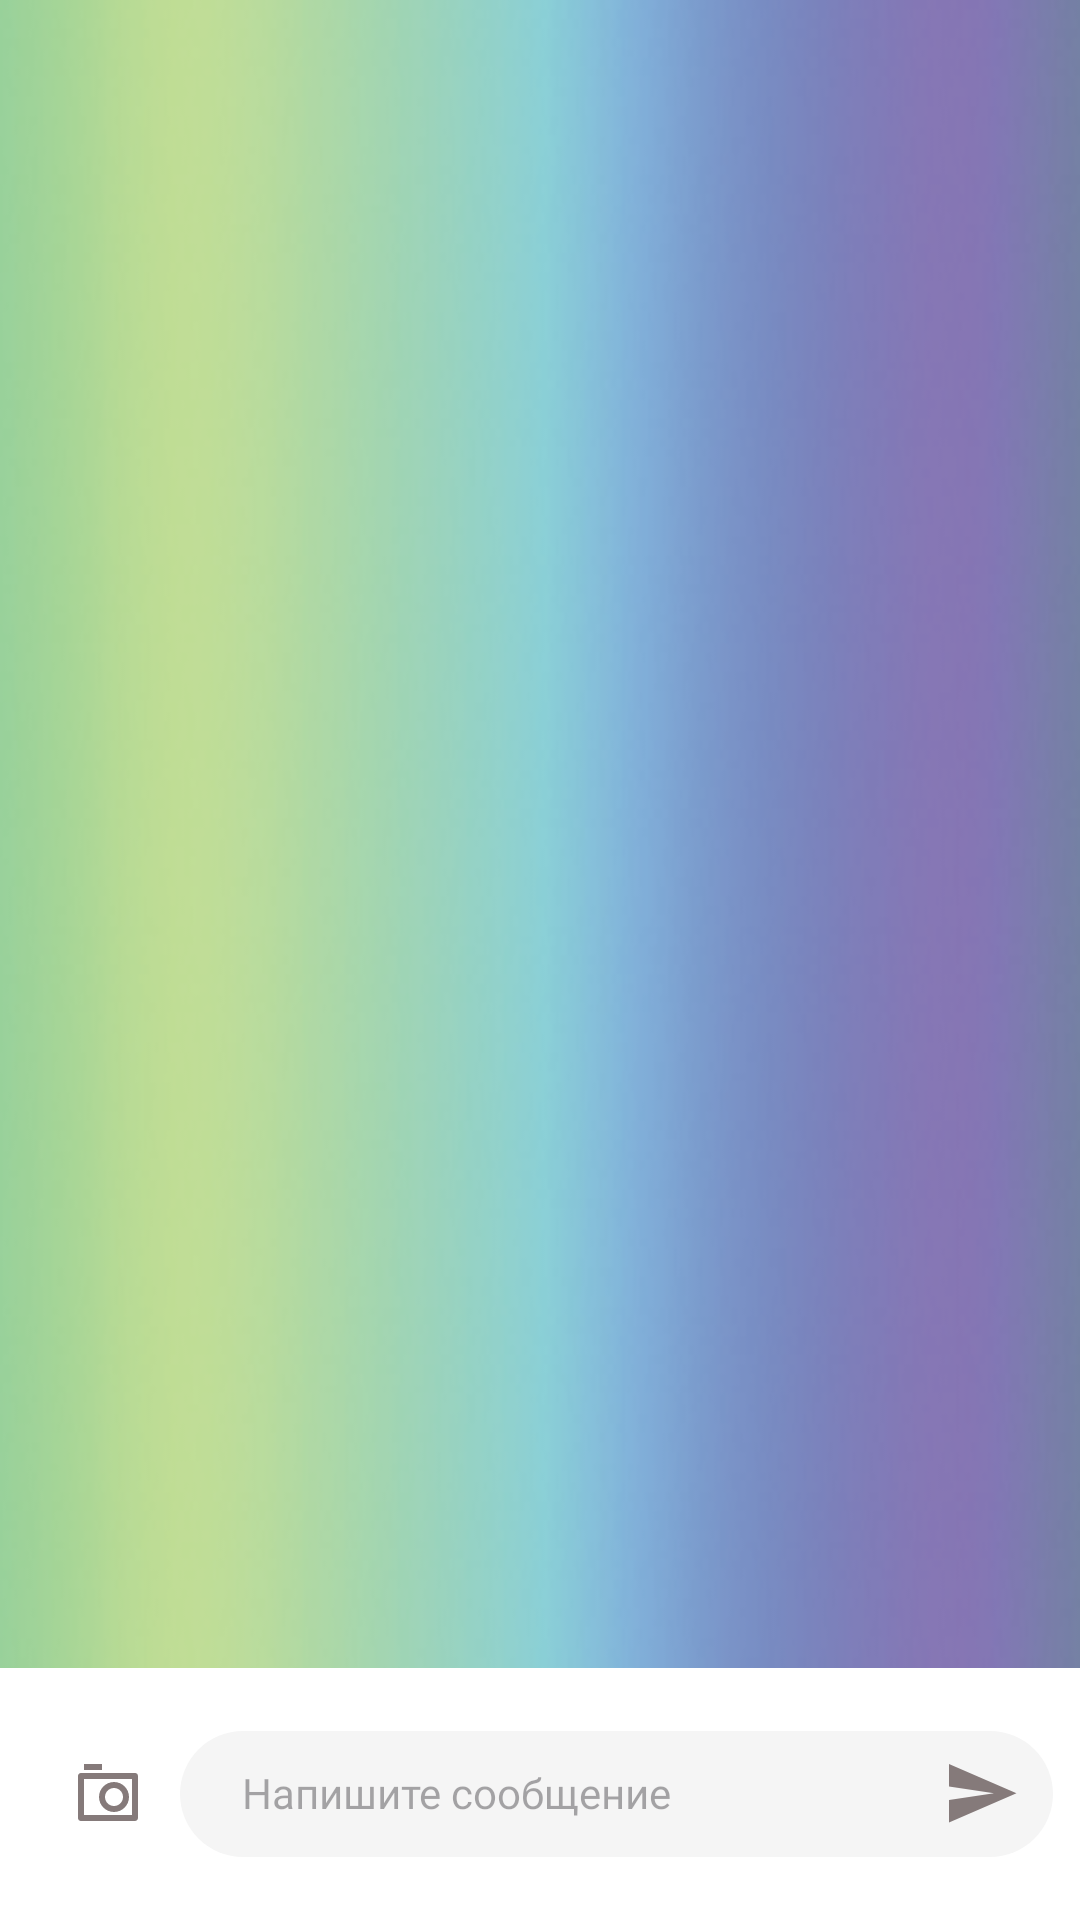

Screen size 1080 x 1920. Icon name, then its center in pixels as [x,y]:
camera: [108,1792]
send: [982,1793]
